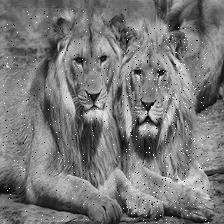Lion: (0, 9, 125, 224), (124, 25, 209, 224)
